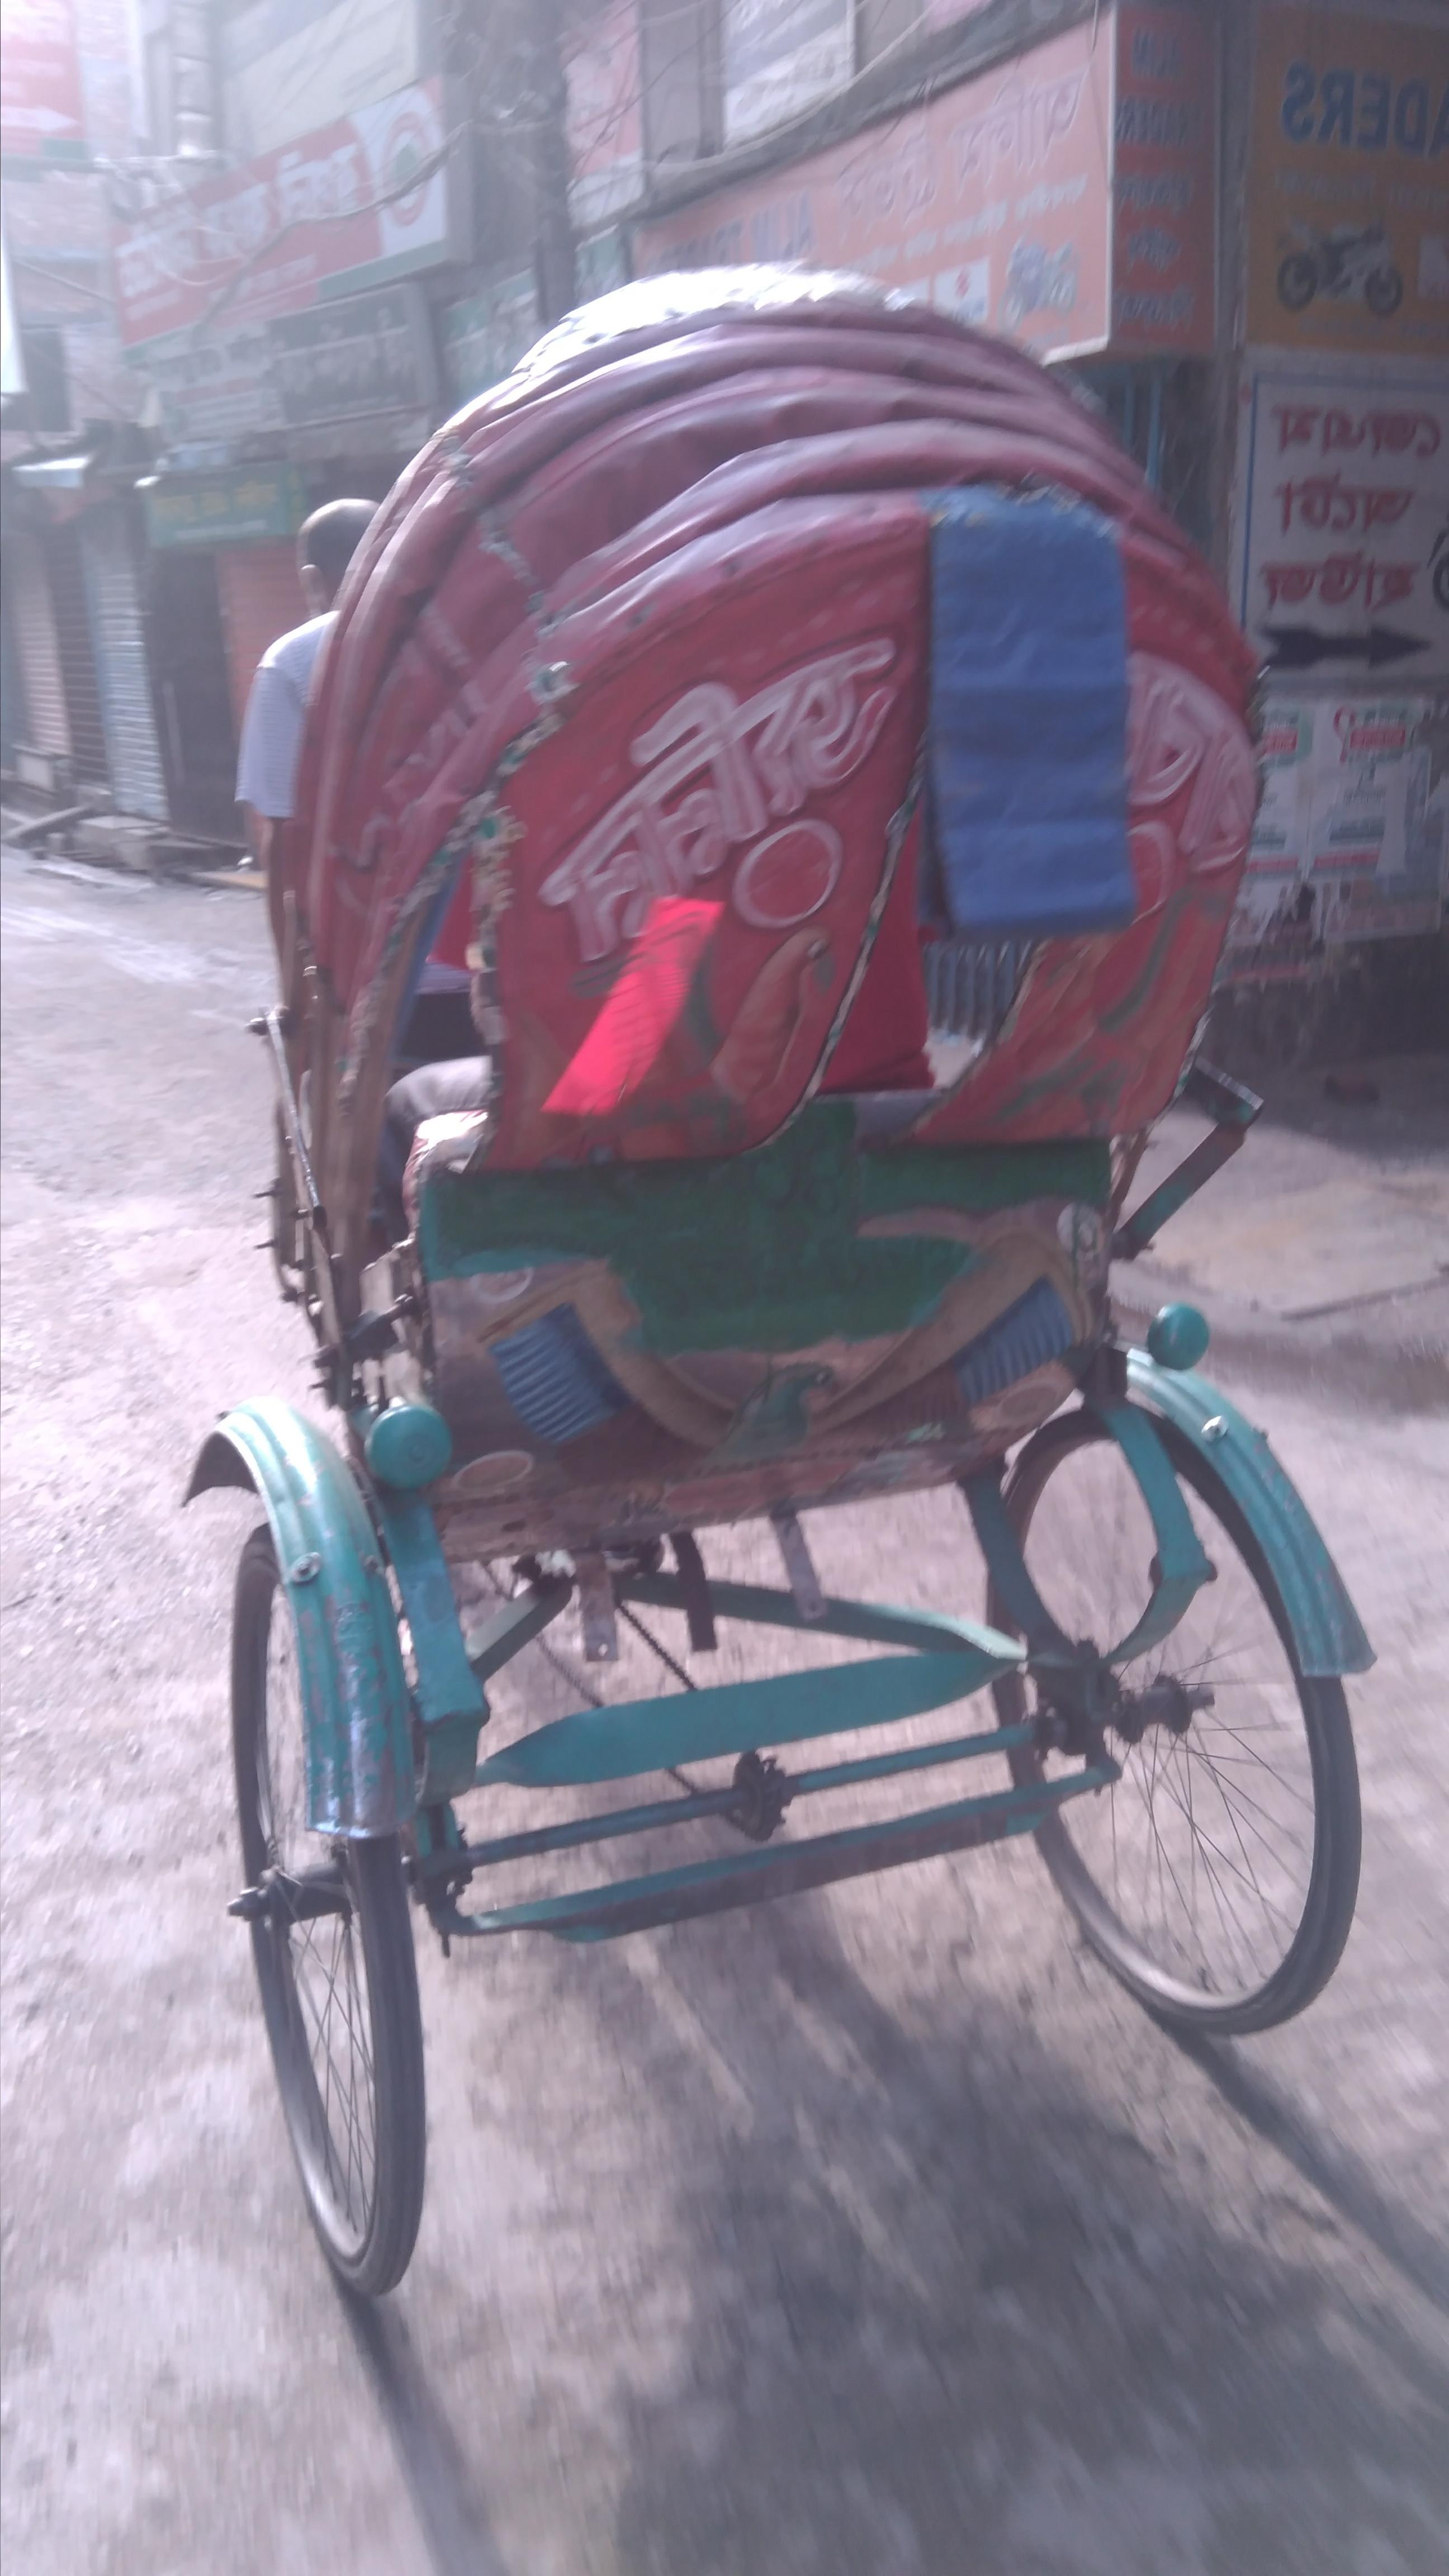Rickshaw: (198, 306, 1350, 2201)
